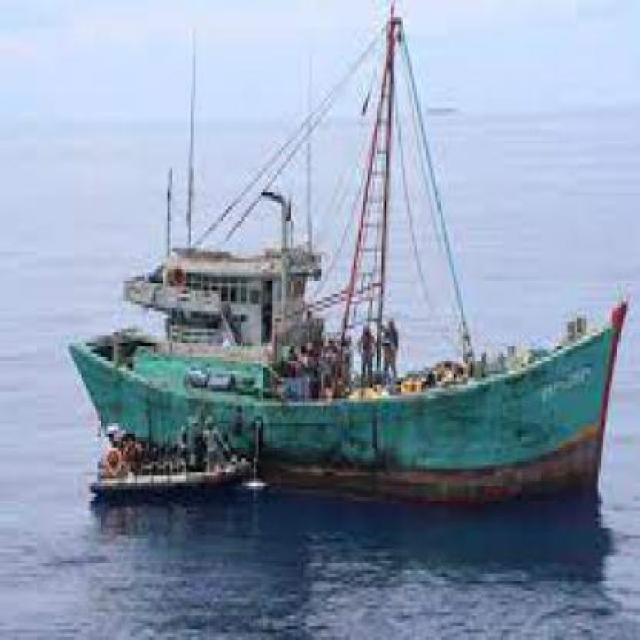fish-b: (57, 15, 639, 529)
